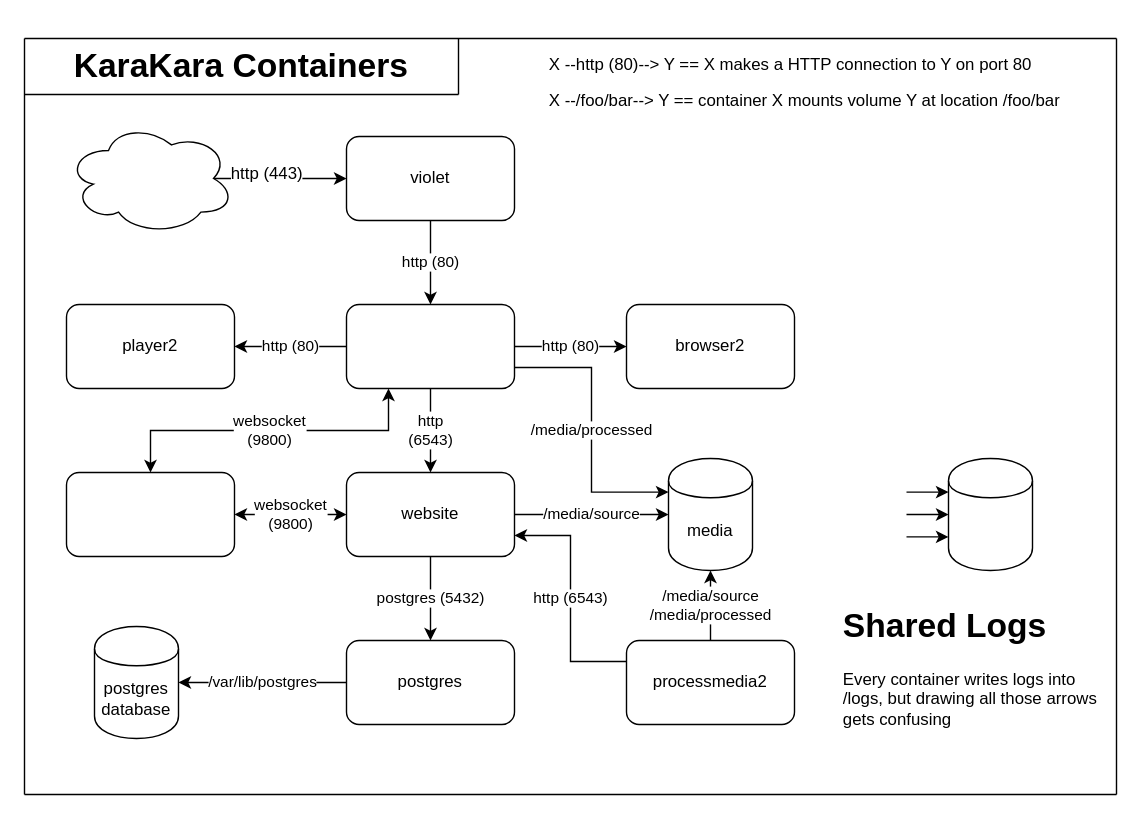
This 1142x820 diagram has some shape labels left out. Here are the shapes that lost their labels. From the top down, the centre of each, then its label:
At point (149, 177): "The Internet".
At point (429, 345): "nginx".
At point (149, 513): "websocket".
At point (989, 513): "logs".
